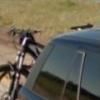bicycles: (0, 27, 45, 100), (71, 24, 94, 31)
